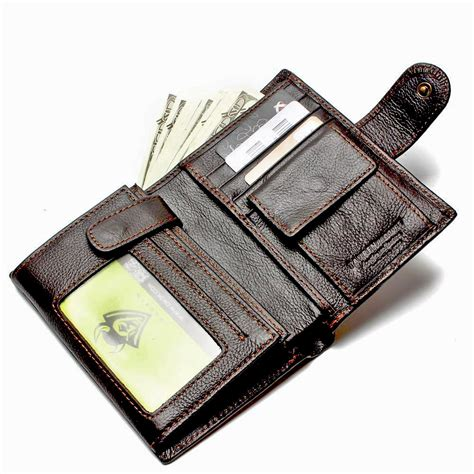cuero: (17, 60, 456, 465)
